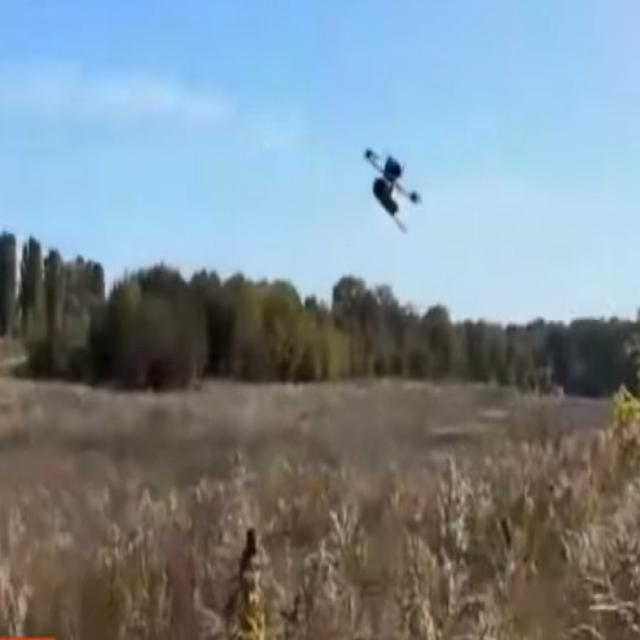drone: (361, 142, 426, 230)
